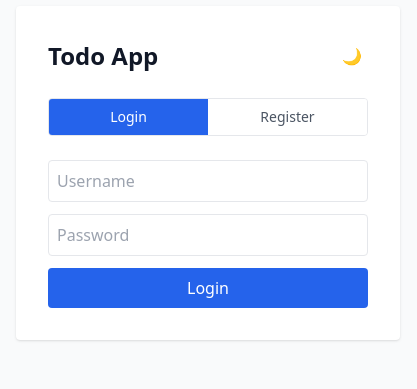
Test: AuthPage › shows error message on failed login
The width and height of the screenshot is (417, 389).
Type "alice" into the field with placeholder "Username". click: (208, 181)
box: x1=48 y1=160 x2=368 y2=202
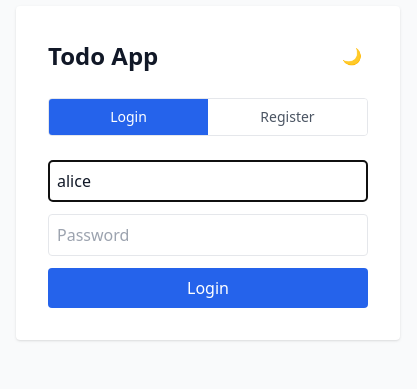
Type "wrongpass" into the password field with placeholder "Password". click: (208, 235)
box: x1=48 y1=214 x2=368 y2=256
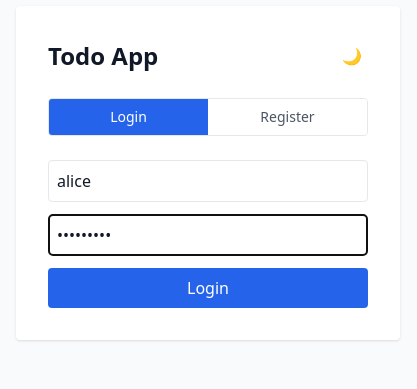
Click the 2nd button "Login". click: (208, 288)
box: x1=48 y1=268 x2=368 y2=308
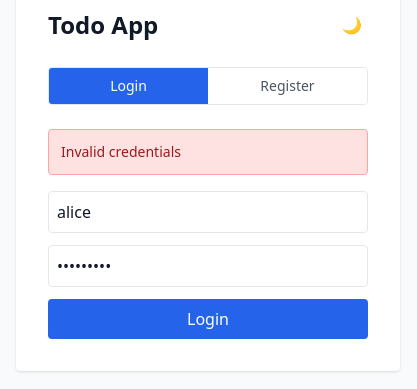
Expected: the text "Invalid credentials" is shown, x1=48 y1=129 x2=368 y2=175
